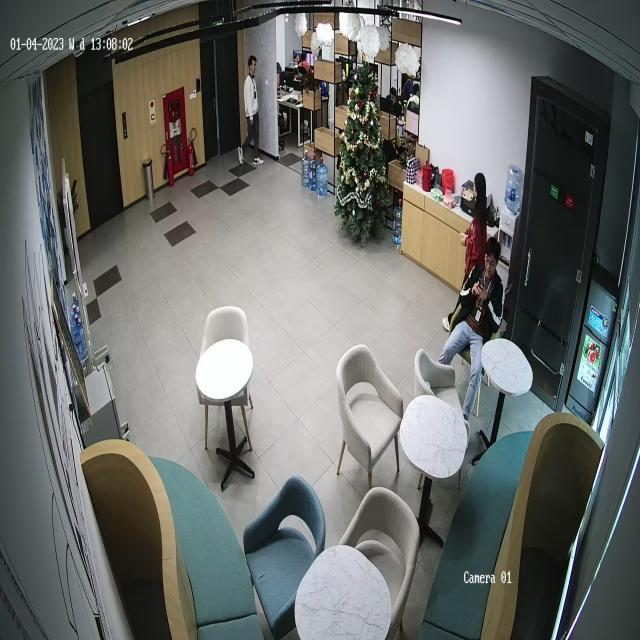person: (438, 236, 505, 424), (449, 171, 489, 321), (243, 54, 260, 156)
